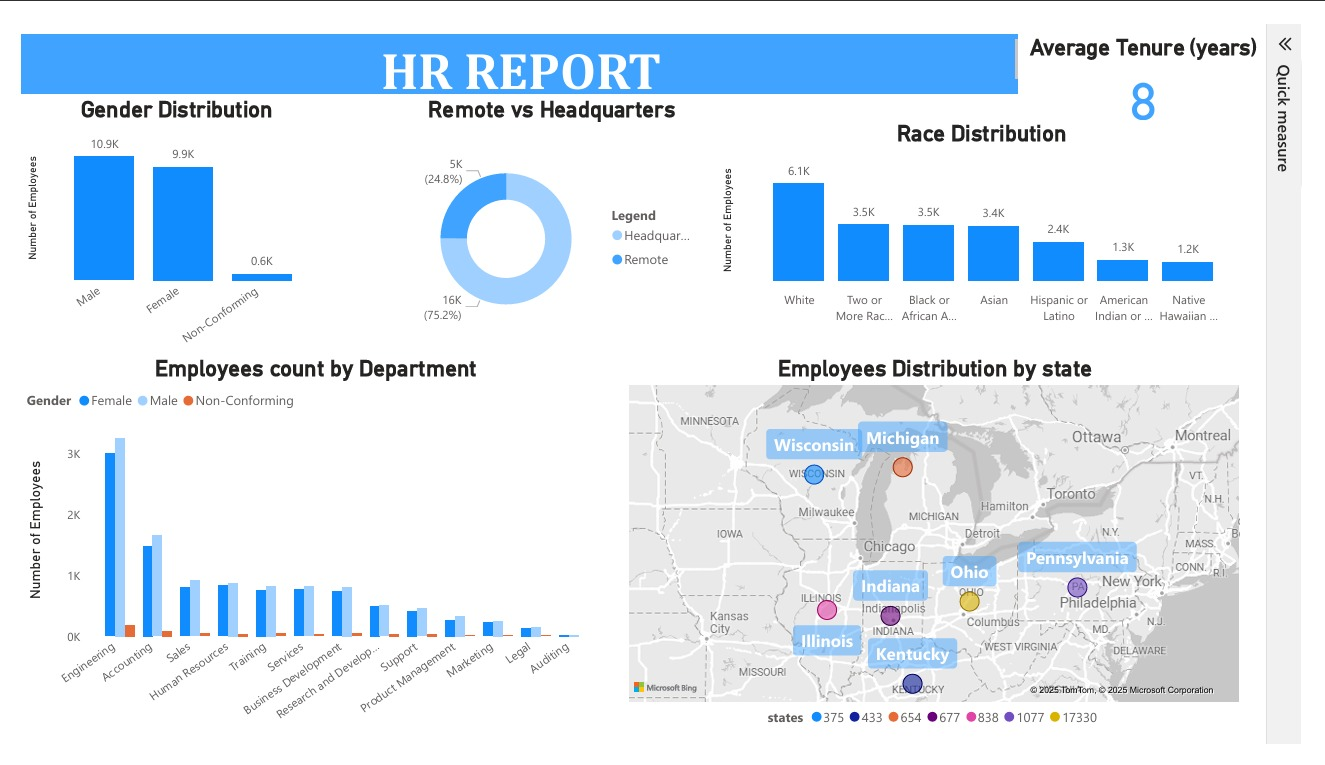

This screenshot's page, from the dashboard's own definition file:
{"tool":"powerbi","page":{"name":"Page 1","canvas":[1280,720],"ordinal":0},"visuals":[{"type":"textbox","box":[0,0,1033.8,61.2],"z":0},{"type":"card","title":"Average Tenure (years)","fields":{"Values":["Sum(avg tenure.Column1)"]},"box":[1025,0,255,97.5],"z":1000},{"type":"columnChart","title":"Gender Distribution","fields":{"Category":["gender.Column1"],"Y":["Sum(gender.Column2)"]},"box":[0,63,318,267],"z":2000},{"type":"clusteredColumnChart","title":"Employees count by Department","fields":{"Y":["Sum(gender-departments.Column3)"],"Series":["gender-departments.Column2"],"Category":["gender-departments.Column1"]},"box":[0,330,604,390],"z":3000},{"type":"donutChart","title":"Remote vs Headquarters","fields":{"Category":["remote vs headquarters.Column1"],"Y":["Sum(remote vs headquarters.Column2)"]},"box":[383.8,62.5,321.2,267.5],"z":4000},{"type":"map","title":"Employees Distribution by state","fields":{"Category":["state distribution.Column1"],"Series":["state distribution.Column2"]},"box":[620,330,637,390],"z":5000},{"type":"columnChart","title":"Race Distribution","fields":{"Y":["Sum(race distribution.Column2)"],"Category":["race distribution.Column1"]},"box":[715,87.5,542.5,216.2],"z":6000}]}

Visuals, with their boxes on the page's 1280x720 design canvas (x1, y1, x2, y2). These are canvas units, not pixel positions in the 1325x765 screenshot, which may show the page scaled, cropped or inside an application window:
textbox: {"left": 0, "top": 0, "right": 1034, "bottom": 61}
"Average Tenure (years)" card: {"left": 1025, "top": 0, "right": 1280, "bottom": 98}
"Gender Distribution" columnChart: {"left": 0, "top": 63, "right": 318, "bottom": 330}
"Employees count by Department" clusteredColumnChart: {"left": 0, "top": 330, "right": 604, "bottom": 720}
"Remote vs Headquarters" donutChart: {"left": 384, "top": 62, "right": 705, "bottom": 330}
"Employees Distribution by state" map: {"left": 620, "top": 330, "right": 1257, "bottom": 720}
"Race Distribution" columnChart: {"left": 715, "top": 88, "right": 1258, "bottom": 304}
